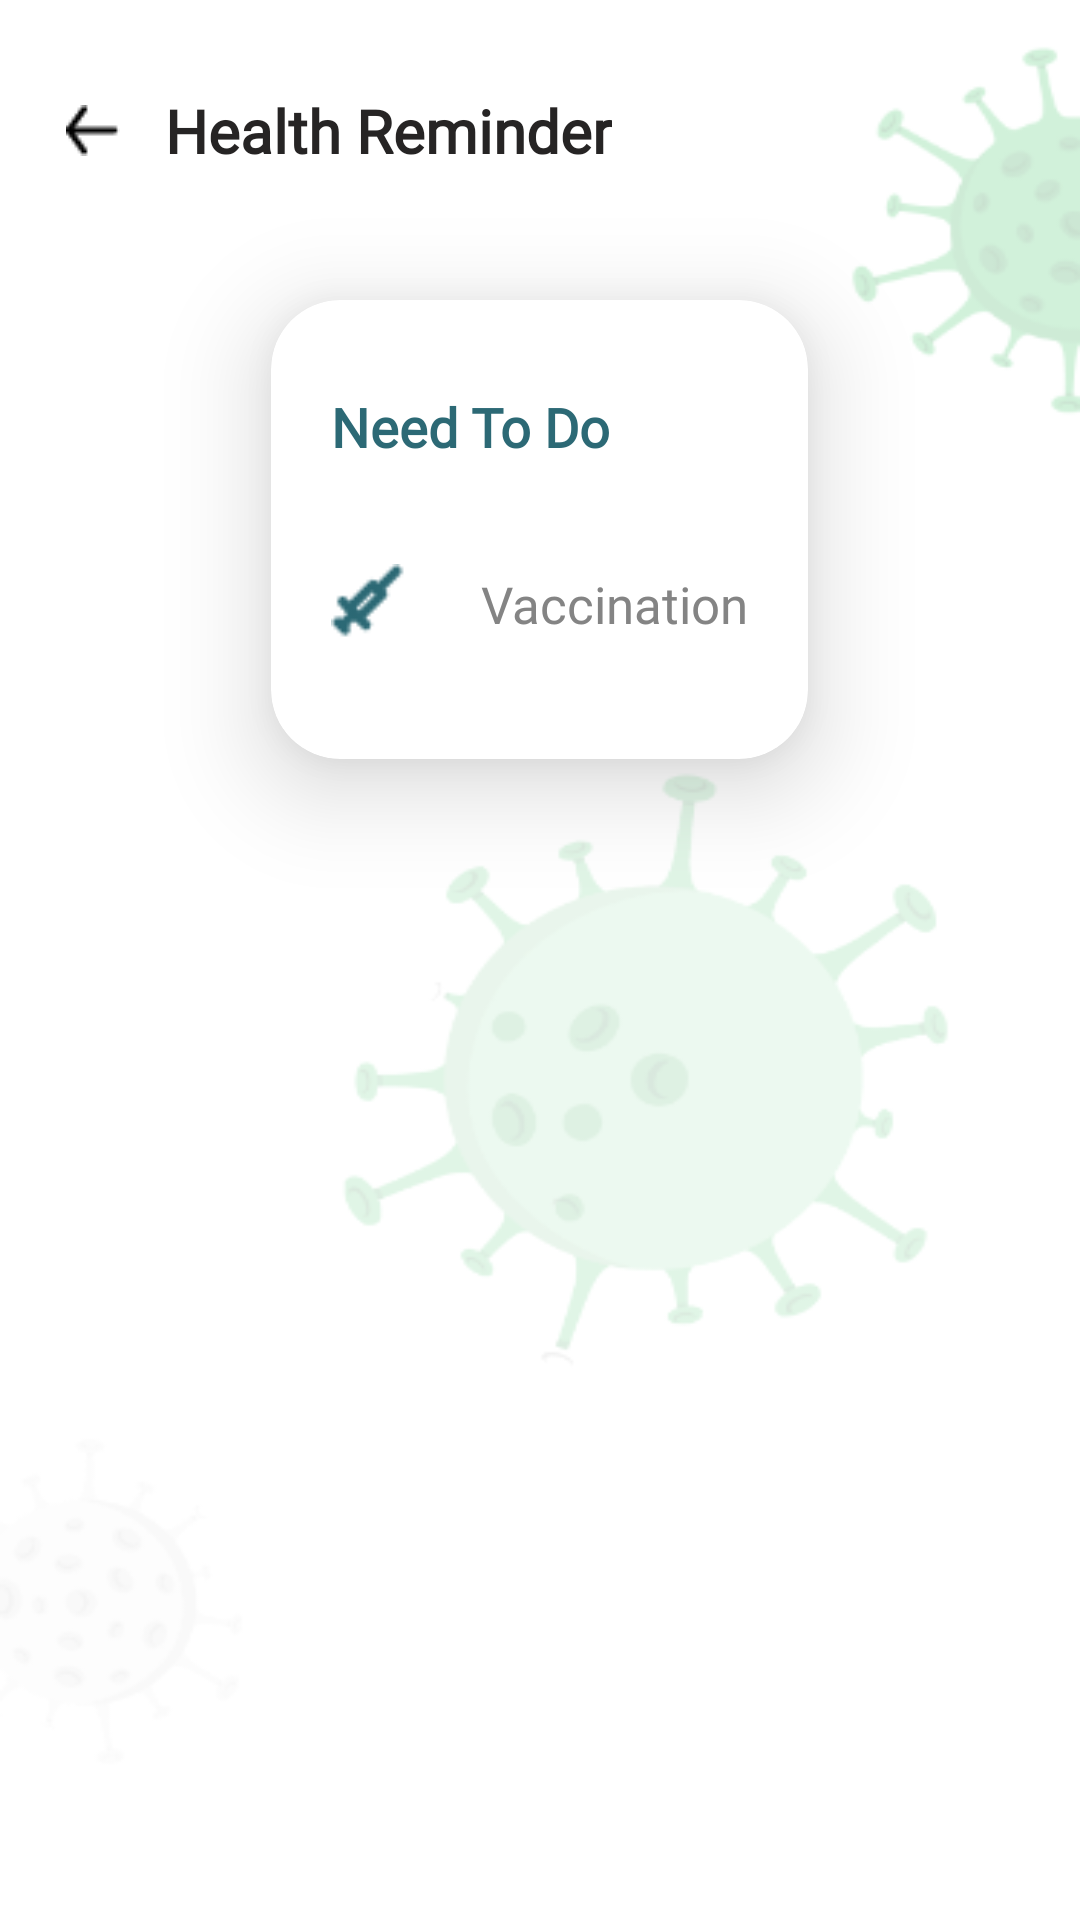

Icons on this 1080px x 1920px Android screen, each with the point to tap as [x,y]:
back: [92,130]
yimiao: [367,600]
